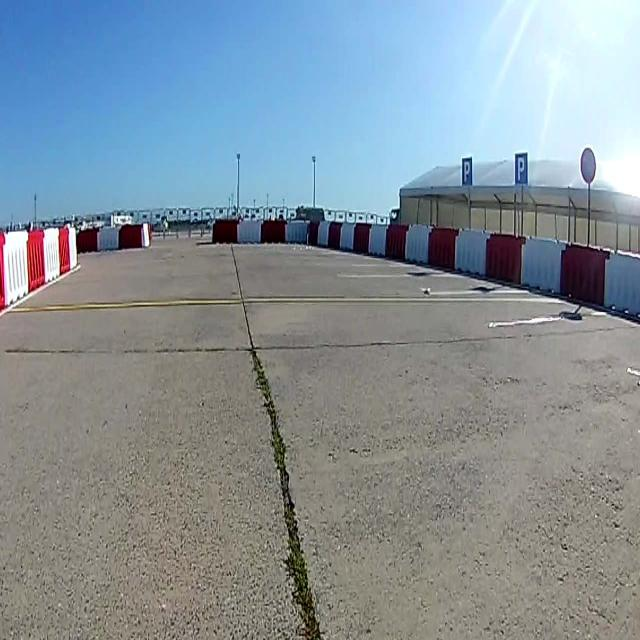park: (515, 150, 528, 184), (463, 157, 473, 183)
